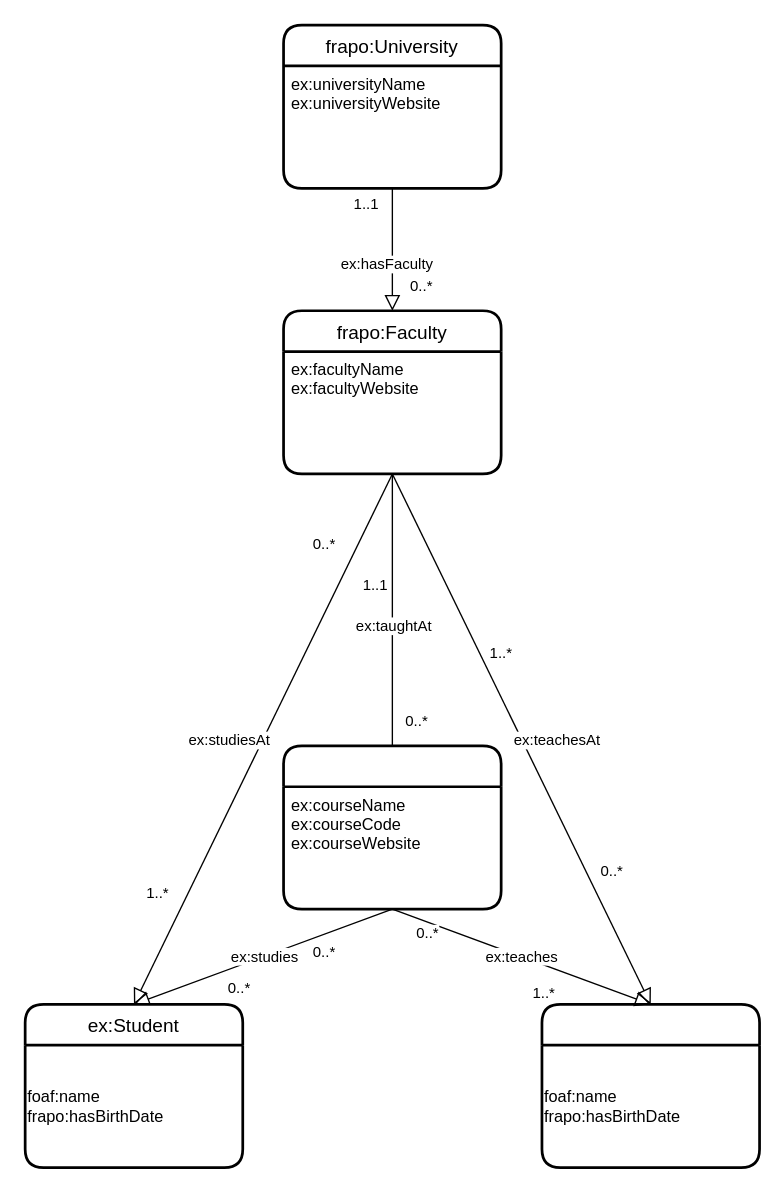
This 783x1191 diagram has some shape labels left out. The shapes that lost their labels are listed below. From the top down, each one's box as (x1, y1, x2, y2) in pixels, then its label:
(282, 744, 502, 910): crsw:Course
(540, 1002, 760, 1168): ex:Teacher
